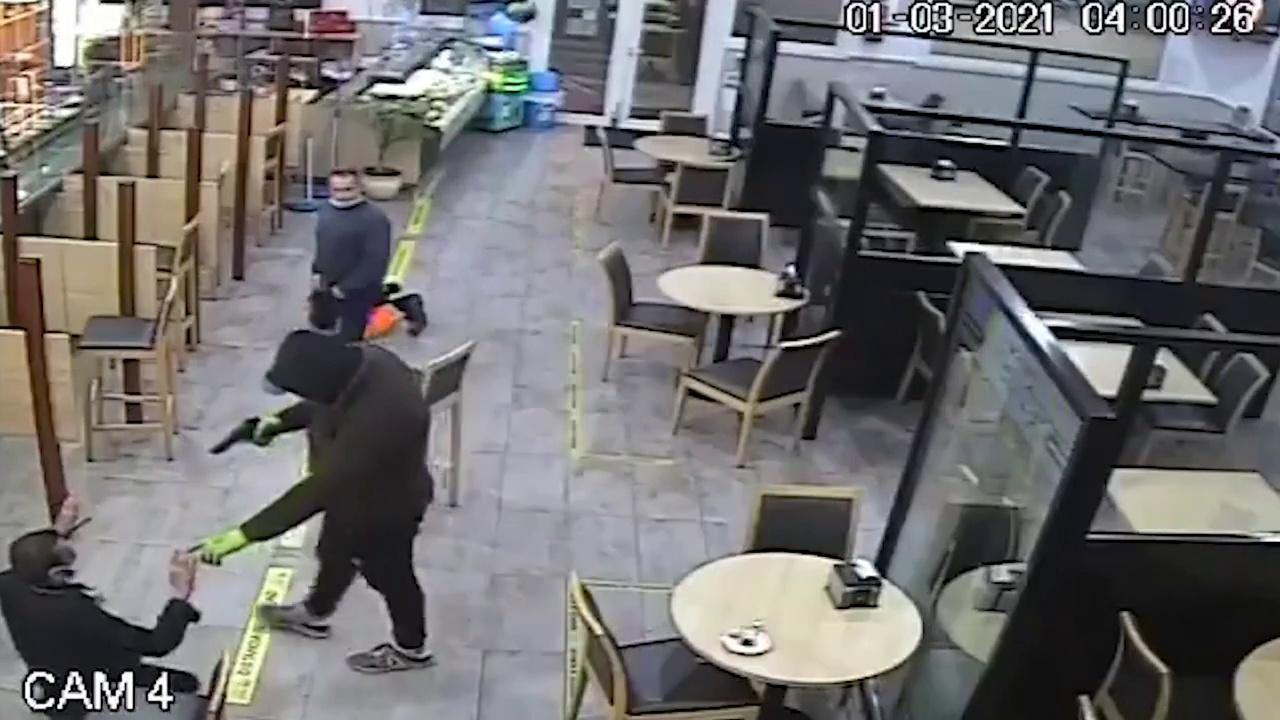Guns perspective: (192, 406, 291, 472)
